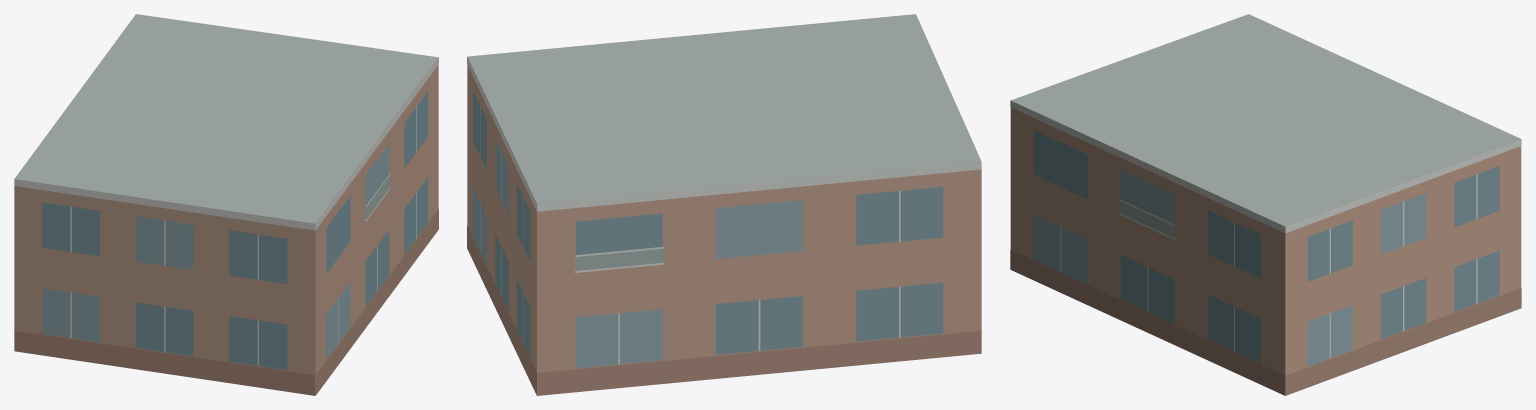
The model's file is survey-upis-32546719.glb.
3 renders of one model, left to right at view 1: azimuth 30°, elevation 25°; view 2: azimuth 150°, elevation 25°; view 3: azimuth 270°, elevation 25°, orthographic. The views are drawn at different scales.
Parts seen in each view (by area): view 1: survey-upis-32546719.tmp; view 2: survey-upis-32546719.tmp; view 3: survey-upis-32546719.tmp.
Part boxes in pixels (<box>): survey-upis-32546719.tmp: <box>14,14,438,395</box>; survey-upis-32546719.tmp: <box>467,14,981,395</box>; survey-upis-32546719.tmp: <box>1010,14,1521,395</box>.
Size of the model in its own units: 16.44 by 6.1 by 16.7.
